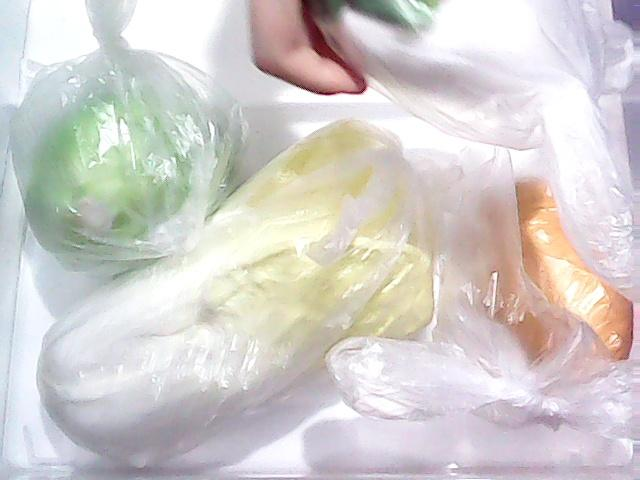cabbage: (16, 71, 244, 269)
mango: (442, 156, 636, 394)
napa cabbage: (39, 111, 434, 469)
